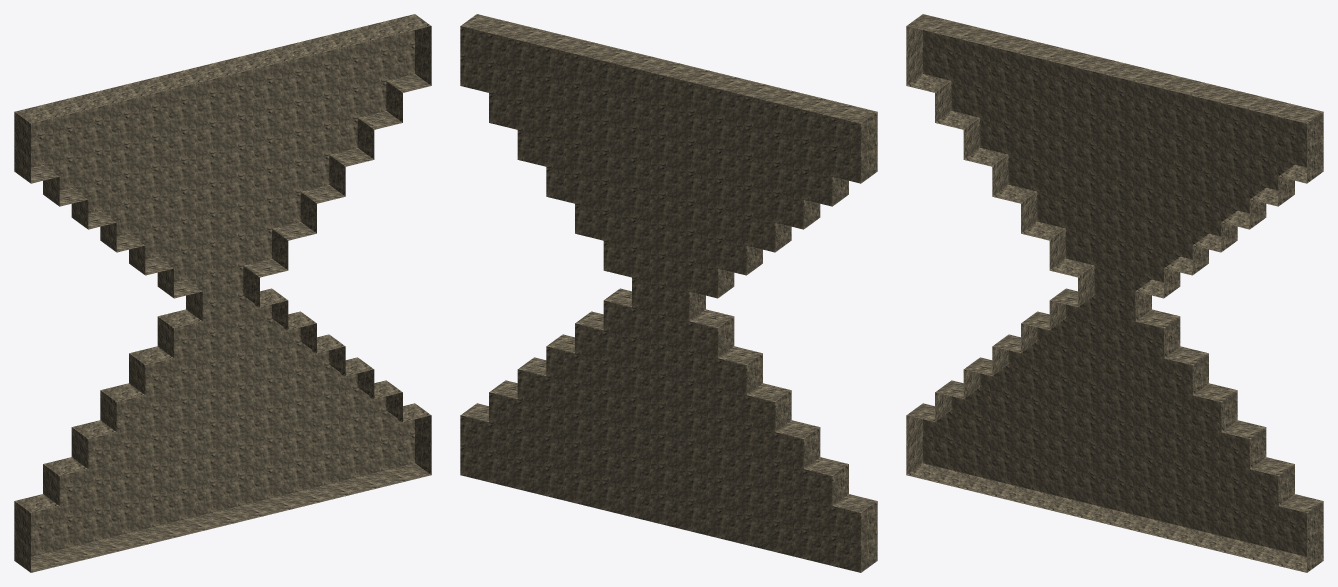
File: prandi2.obj
3 views of the same model, side by side, from view 1: azimuth 30°, elevation 25°; view 2: azimuth 150°, elevation 25°; view 3: azimuth 330°, elevation 25° (orthographic).
Bounding box in the file's own units: 14 × 15 × 1.
